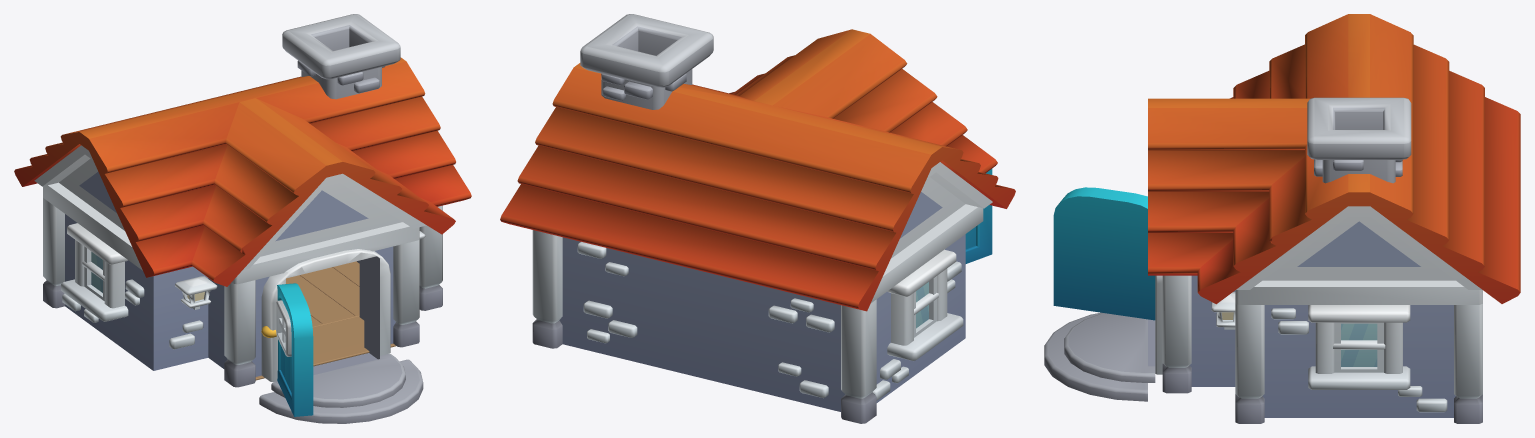
File: hunter.glb
3 views of the same model, side by side, from view 1: azimuth 30°, elevation 25°; view 2: azimuth 150°, elevation 25°; view 3: azimuth 270°, elevation 25° (orthographic). The views are drawn at different scales.
Parts seen in each view (by area): view 1: roof_house.001, body_house, roof_original_chimney, body_open_original_door, interior_floor, interior_floor_entry; view 2: roof_house.001, body_house, roof_original_chimney, body_open_original_door; view 3: roof_house.001, body_house, body_open_original_door, roof_original_chimney.
Part boxes in pixels (<box>): roof_house.001: <box>14,57,471,286</box>; body_house: <box>43,198,442,423</box>; roof_original_chimney: <box>282,14,400,99</box>; body_open_original_door: <box>261,283,313,416</box>; interior_floor: <box>286,261,359,327</box>; interior_floor_entry: <box>255,316,395,380</box>; roof_house.001: <box>500,29,1015,311</box>; body_house: <box>532,230,965,423</box>; roof_original_chimney: <box>580,14,713,109</box>; body_open_original_door: <box>965,169,992,263</box>; roof_house.001: <box>1148,14,1520,304</box>; body_house: <box>1044,275,1482,423</box>; body_open_original_door: <box>1053,187,1155,320</box>; roof_original_chimney: <box>1307,97,1411,183</box>.
Bounding box in the file's own units: 319 × 243 × 353.
Materials: 3 (1 with a texture image).
